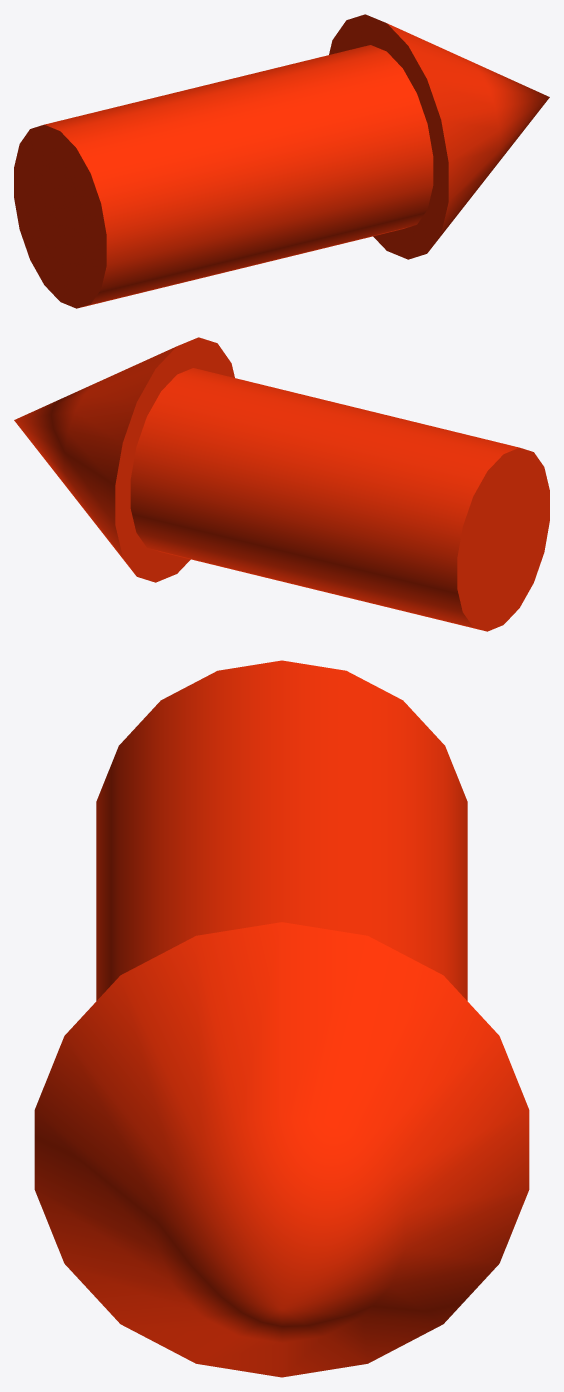
Rendered from 220130_modelRocket_001.fbx.
The picture shows the model from 3 angles, top to bottom: view 1: azimuth 30°, elevation 25°; view 2: azimuth 150°, elevation 25°; view 3: azimuth 270°, elevation 25°; orthographic projection. The views are drawn at different scales.
Parts seen in each view (by area): view 1: tankRocket_001; view 2: tankRocket_001; view 3: tankRocket_001.
Boxes of the visible parts, x1,y1,x2,y2 form: tankRocket_001: (14,14,549,308); tankRocket_001: (14,337,549,631); tankRocket_001: (34,660,529,1377).
Size of the model in its own units: 90 by 40 by 39.39.
